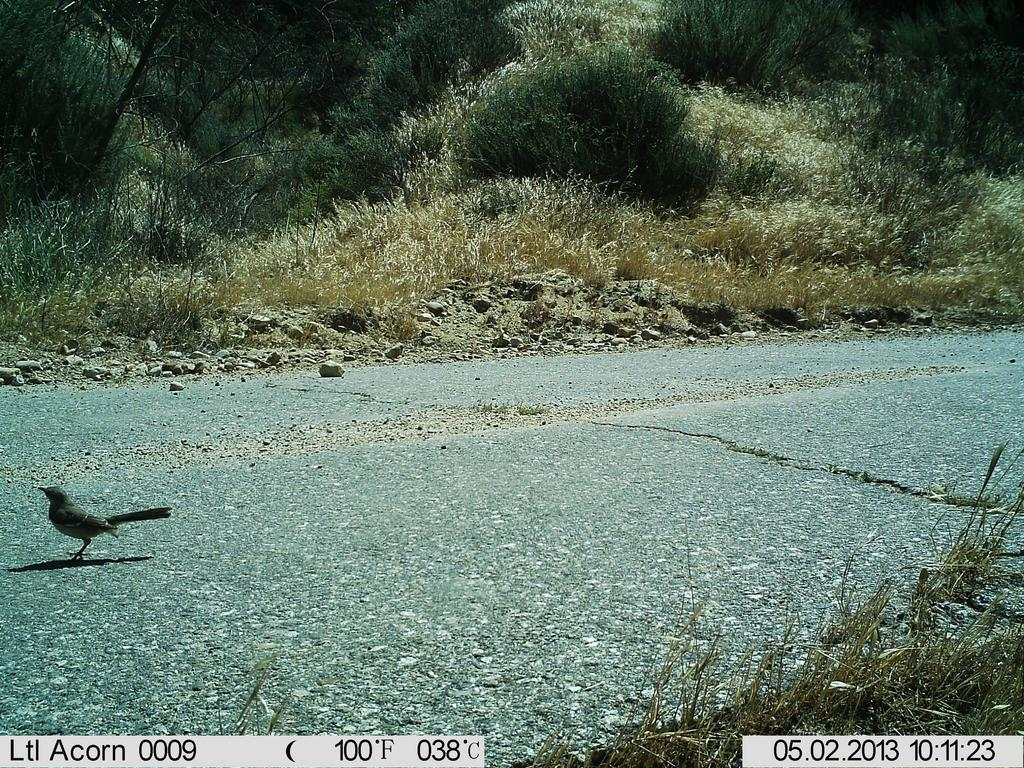bird: (41, 471, 176, 566)
